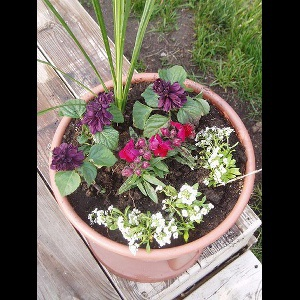flowerpot: (49, 73, 256, 284)
